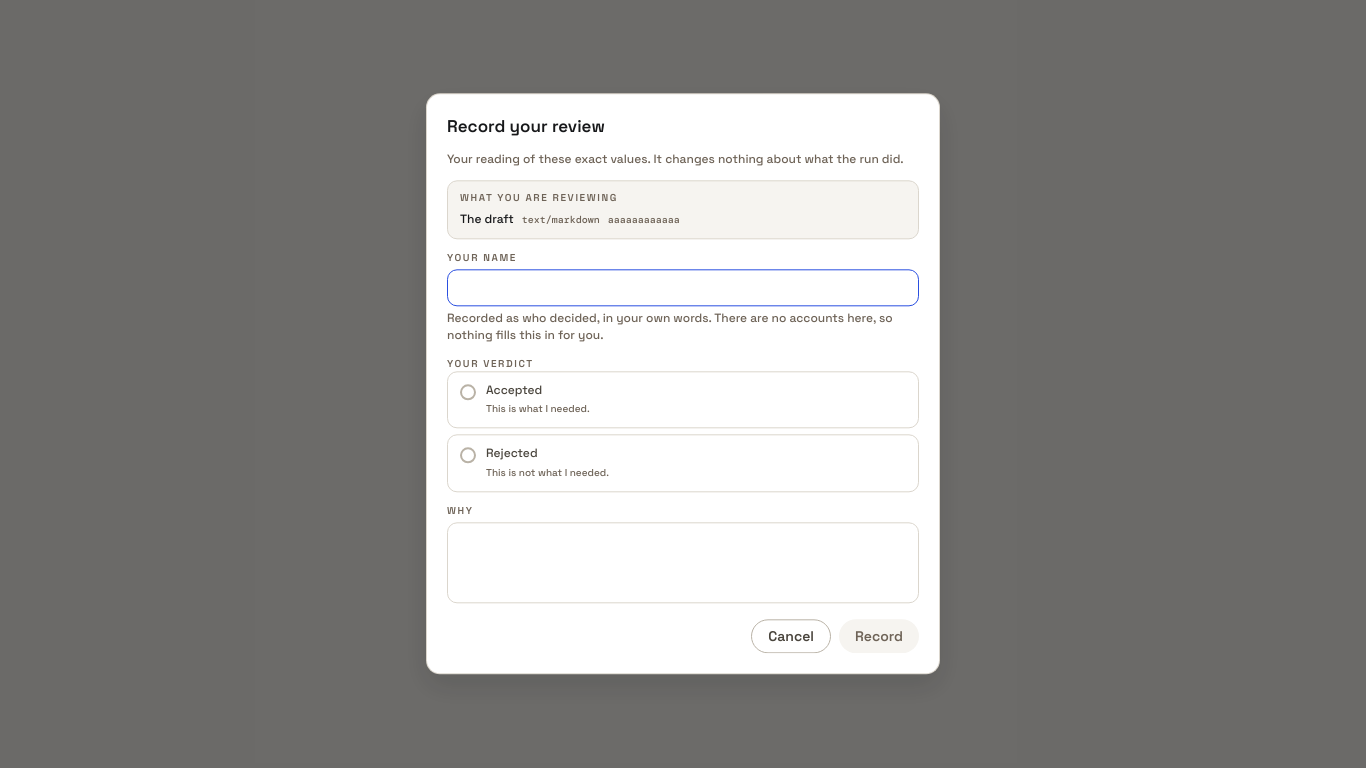
Test case: OwnerReviewForm › sends the typed name, the verdict, the reason and the host's own references
The width and height of the screenshot is (1366, 768).
Type "Alex" into the field labelled "Your name" at x=683, y=288, box [447, 270, 919, 306]
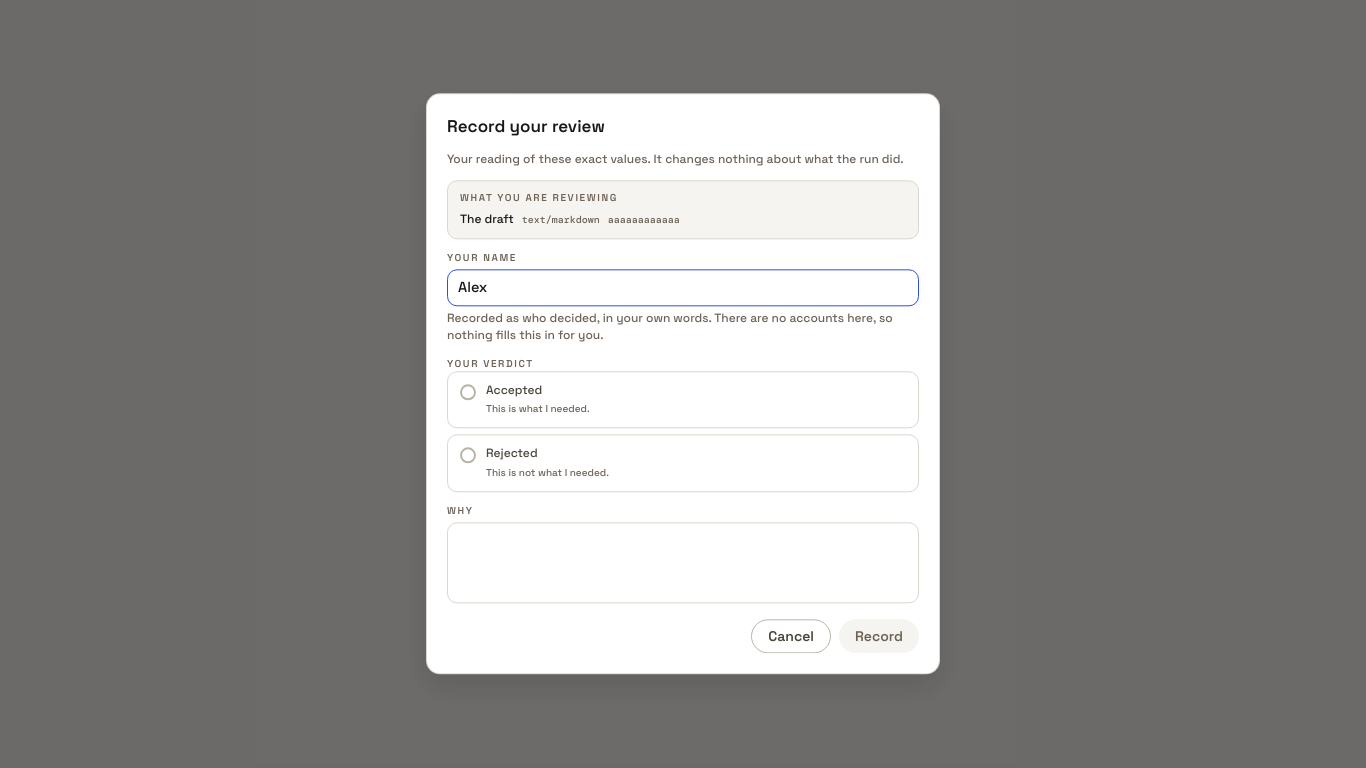
Click the radio button labelled "Accepted" at x=514, y=390, box [447, 371, 919, 429]
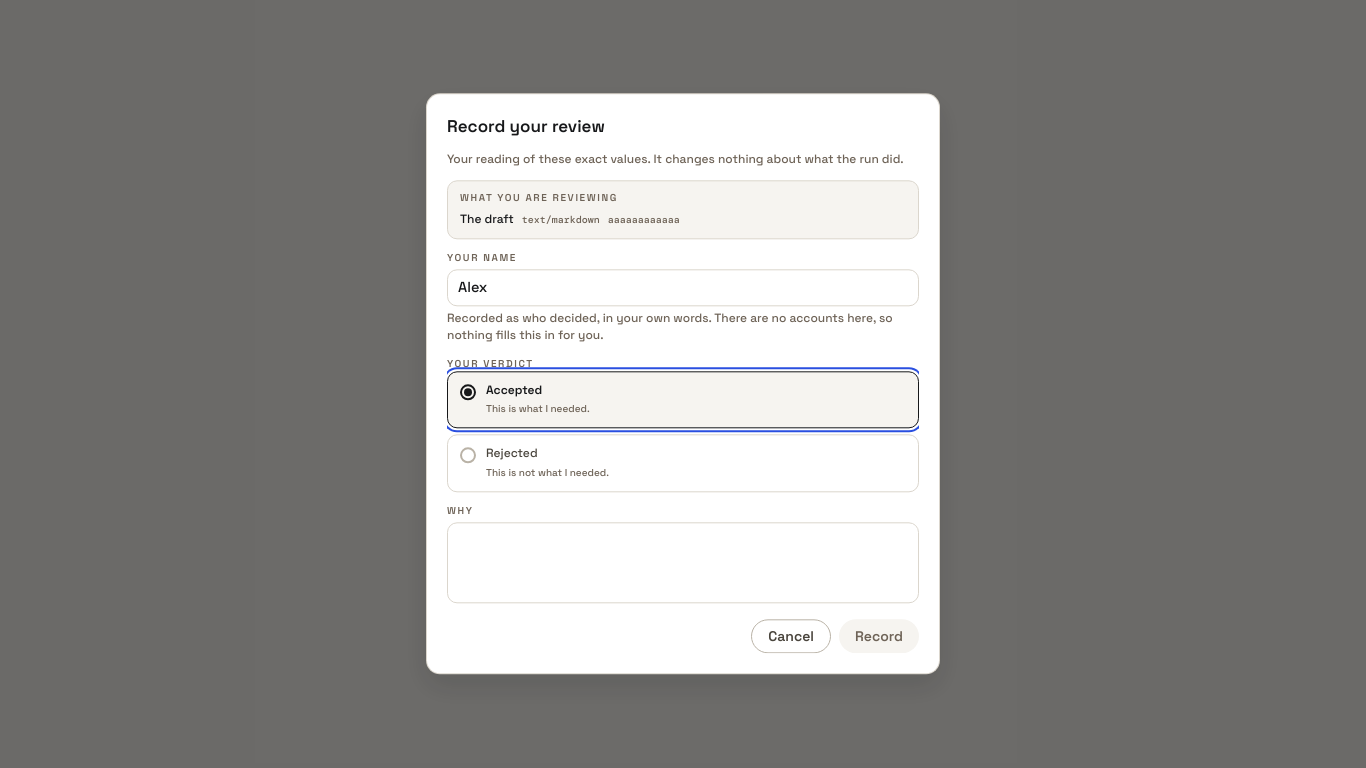
Type "It answered the question." into the text box labelled "Why" at x=683, y=563, box [447, 522, 919, 604]
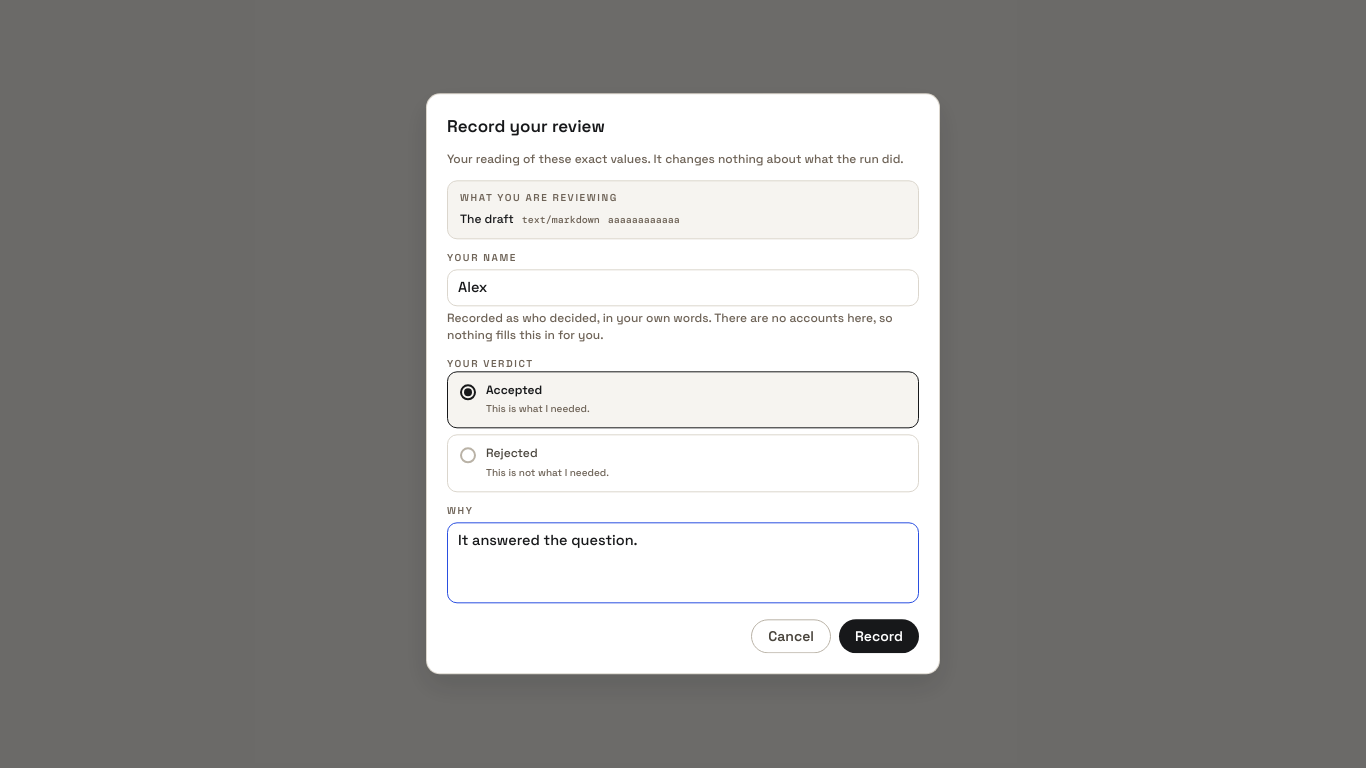
Click the button "Record" at x=879, y=637, box [839, 620, 919, 654]
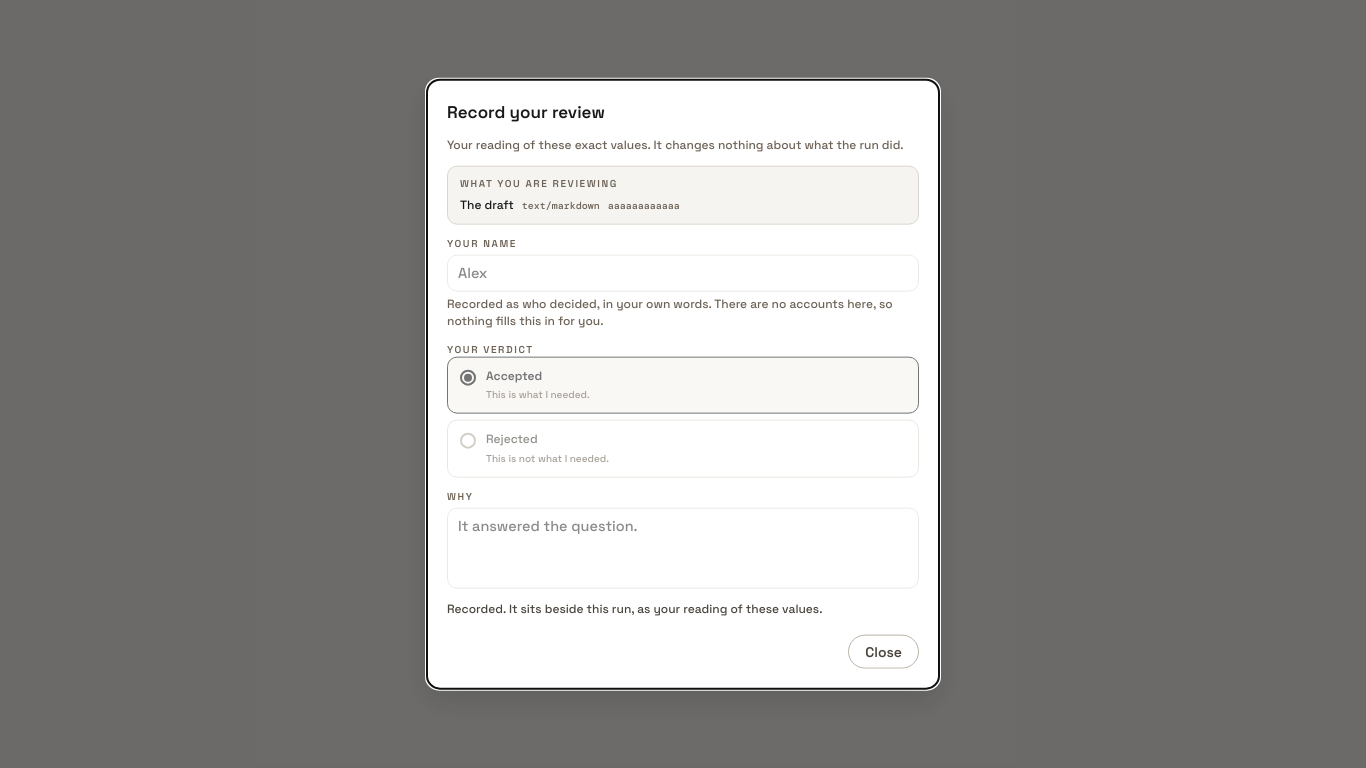
Check: the message shows "Recorded.", box [447, 601, 822, 617]
